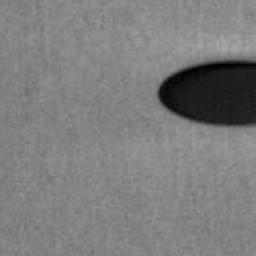Punching: (159, 59, 256, 129)
